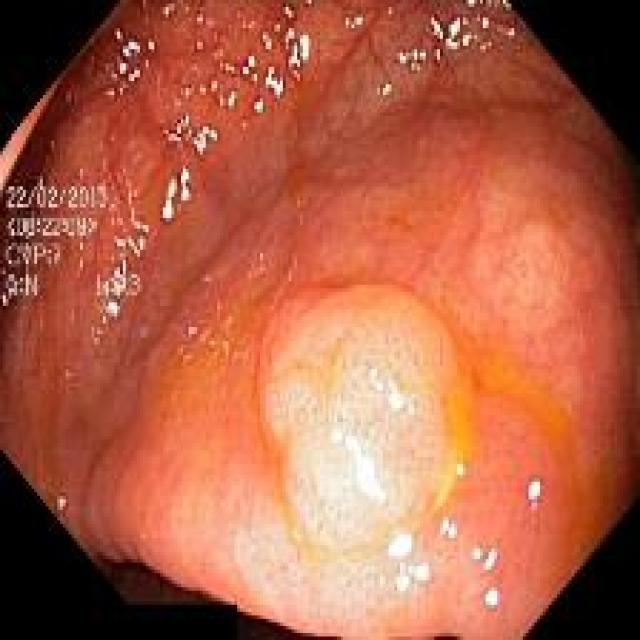Polyps: (258, 286, 471, 556)
